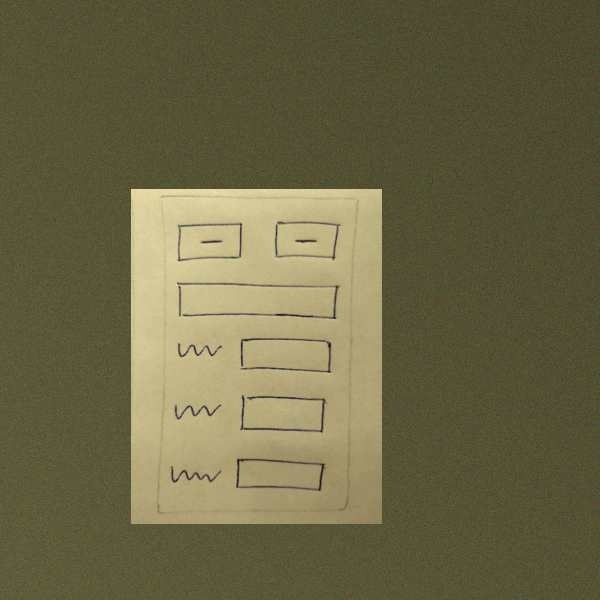button: (174, 220, 247, 263), (270, 218, 342, 261)
text: (166, 460, 225, 486), (172, 337, 226, 364), (169, 396, 223, 423)
text_input: (172, 278, 342, 322), (234, 333, 334, 380), (234, 390, 333, 437), (233, 454, 325, 496)
